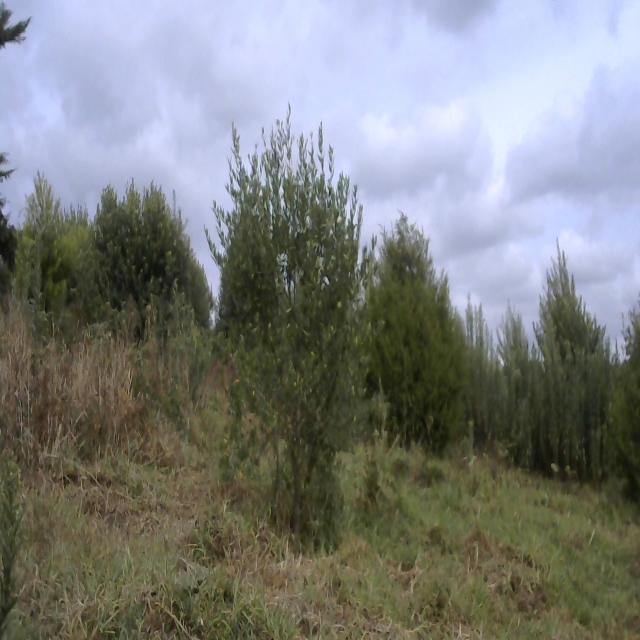Juniperus procesera: (364, 233, 466, 452), (537, 232, 606, 388)
Olea europea -africana-: (219, 110, 388, 576), (94, 178, 186, 336)
